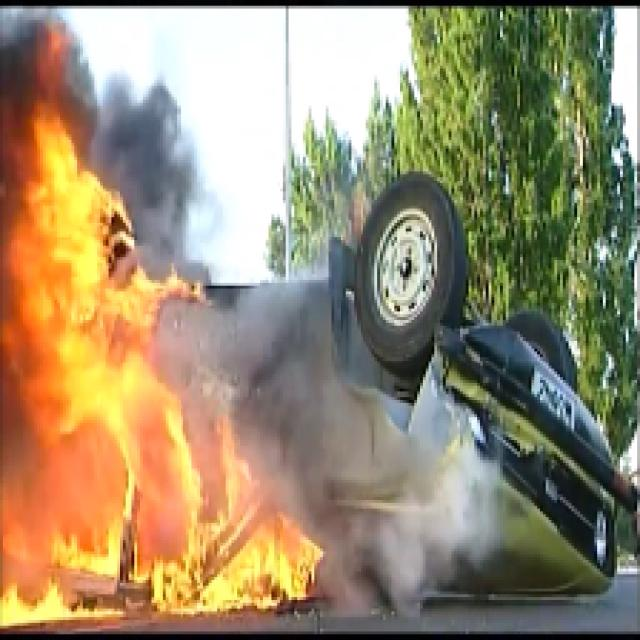fire: (13, 181, 112, 597), (116, 404, 206, 620), (225, 522, 301, 613)
smoke: (232, 311, 364, 479), (339, 482, 446, 608)
